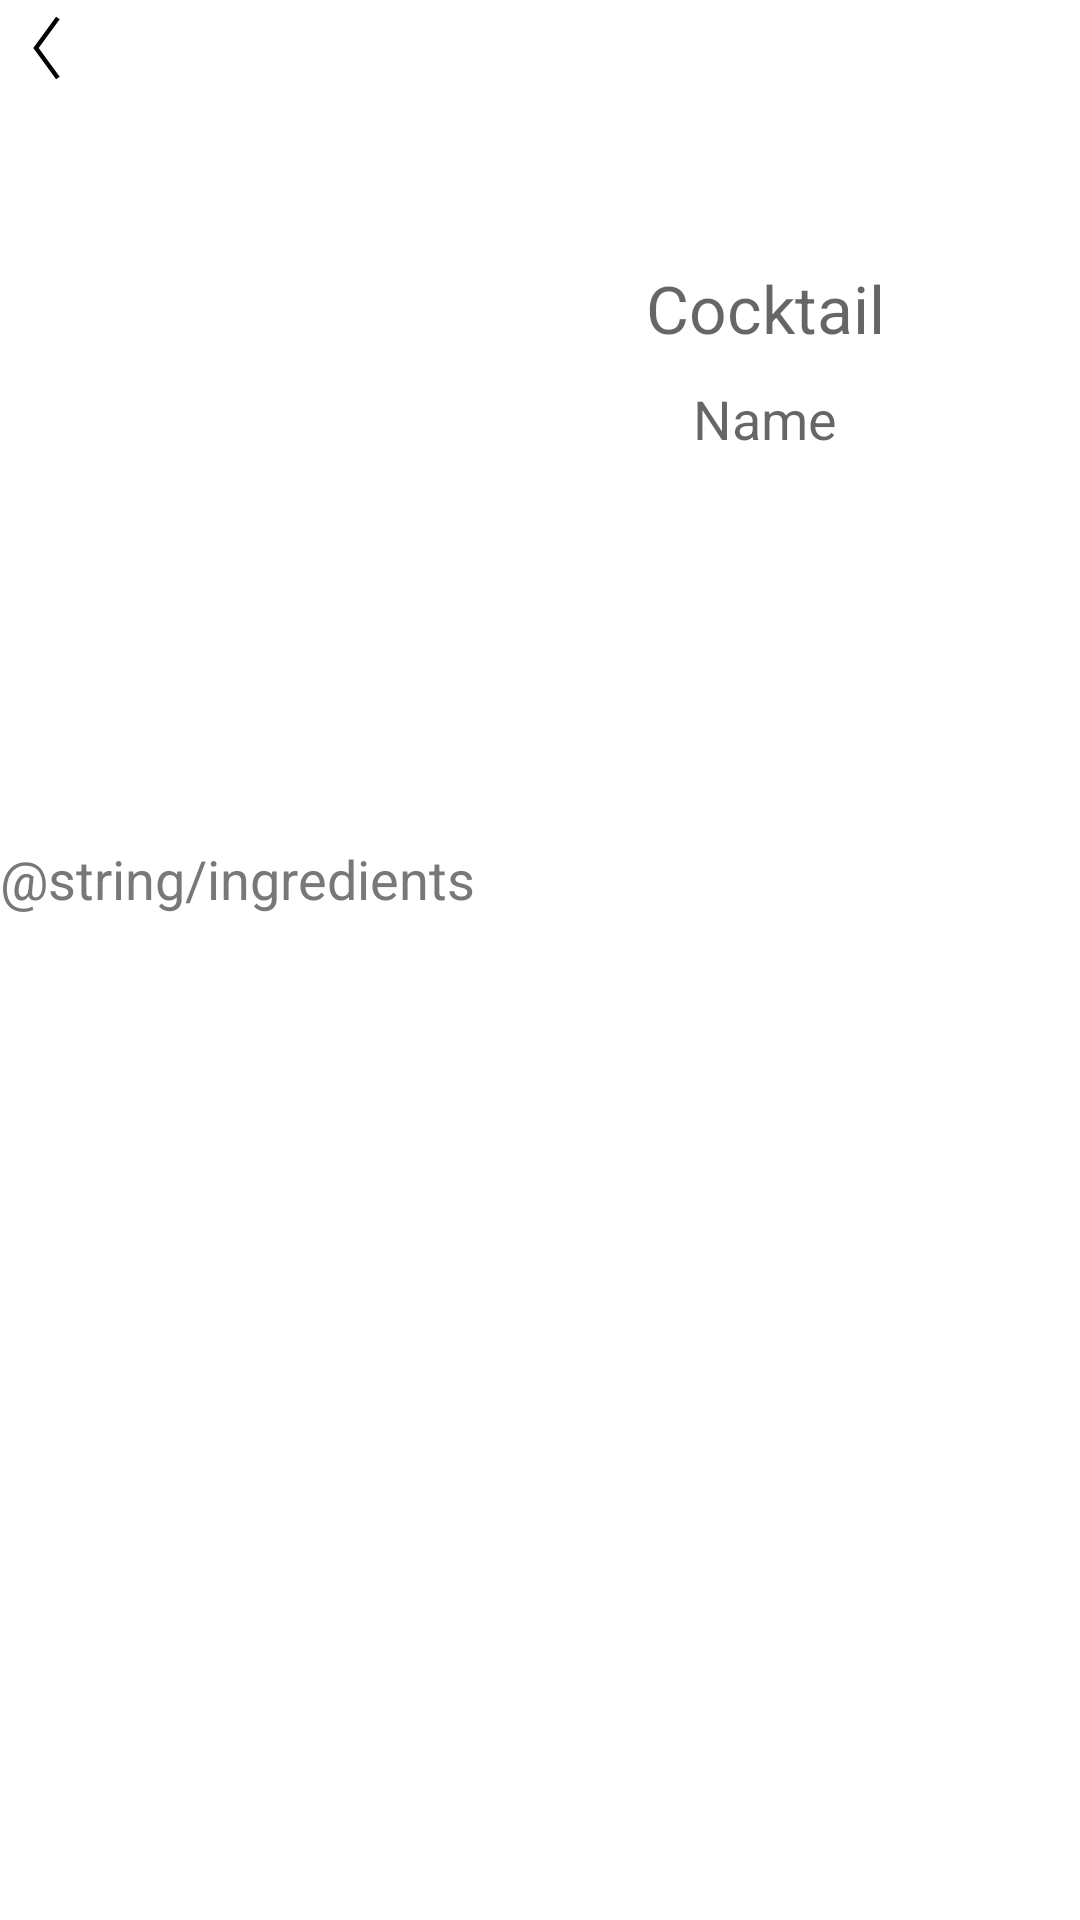

Named icons in this screenshot (1080 x 1920) and their centers, (x=x, y=y):
back: (x=46, y=48)
